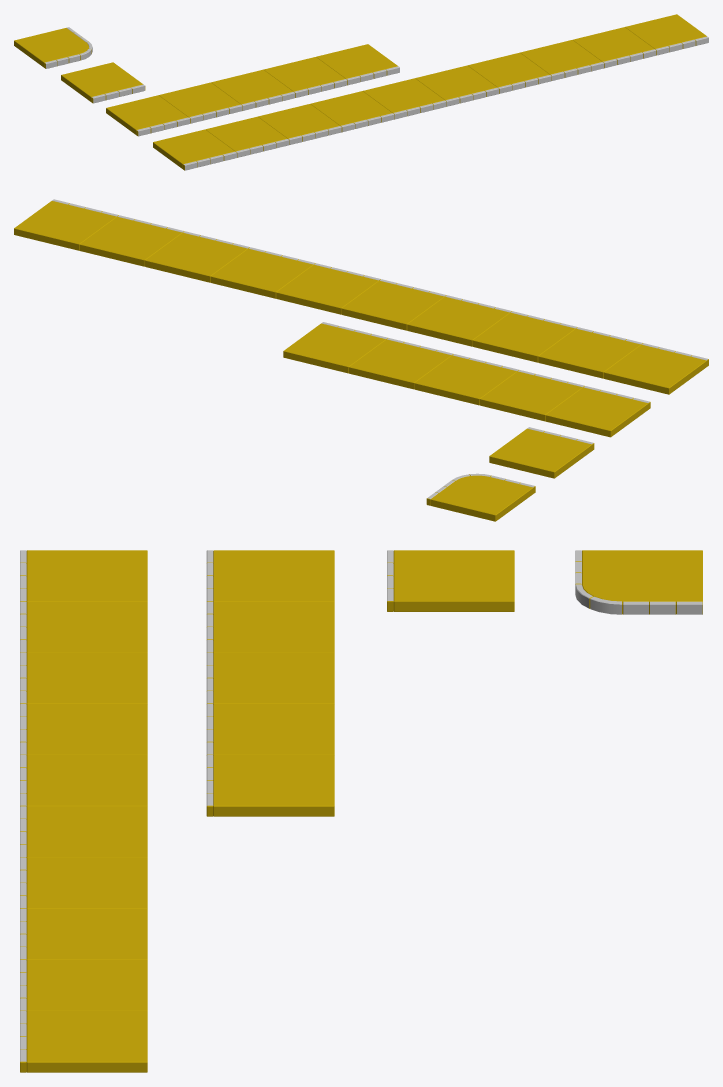
3 renders of one model, top to bottom at view 1: azimuth 30°, elevation 25°; view 2: azimuth 150°, elevation 25°; view 3: azimuth 270°, elevation 25°, orthographic. The views are drawn at different scales.
Visible parts, largest first — view 1: Side_Walk_10_Block (×2), Side_Walk_5_Block (×2), Side_Walk_Corner_Block (×2), Side_Walk_1_Block (×2); view 2: Side_Walk_10_Block (×2), Side_Walk_5_Block (×2), Side_Walk_1_Block, Side_Walk_Corner_Block; view 3: Side_Walk_10_Block (×2), Side_Walk_5_Block (×2), Side_Walk_Corner_Block (×2), Side_Walk_1_Block.
Boxes of the visible parts, x1,y1,x2,y2 form: Side_Walk_10_Block (×2): (153, 14, 708, 170); Side_Walk_5_Block (×2): (106, 44, 399, 136); Side_Walk_Corner_Block (×2): (14, 27, 92, 68); Side_Walk_1_Block (×2): (61, 62, 145, 103); Side_Walk_10_Block (×2): (14, 199, 708, 394); Side_Walk_5_Block (×2): (283, 322, 650, 437); Side_Walk_1_Block: (489, 428, 594, 478); Side_Walk_Corner_Block: (426, 474, 535, 521); Side_Walk_10_Block (×2): (20, 550, 147, 1072); Side_Walk_5_Block (×2): (206, 550, 334, 816); Side_Walk_Corner_Block (×2): (575, 550, 702, 614); Side_Walk_1_Block: (387, 550, 514, 611).
Bounding box in the file's own units: 2000 × 20 × 1128.
